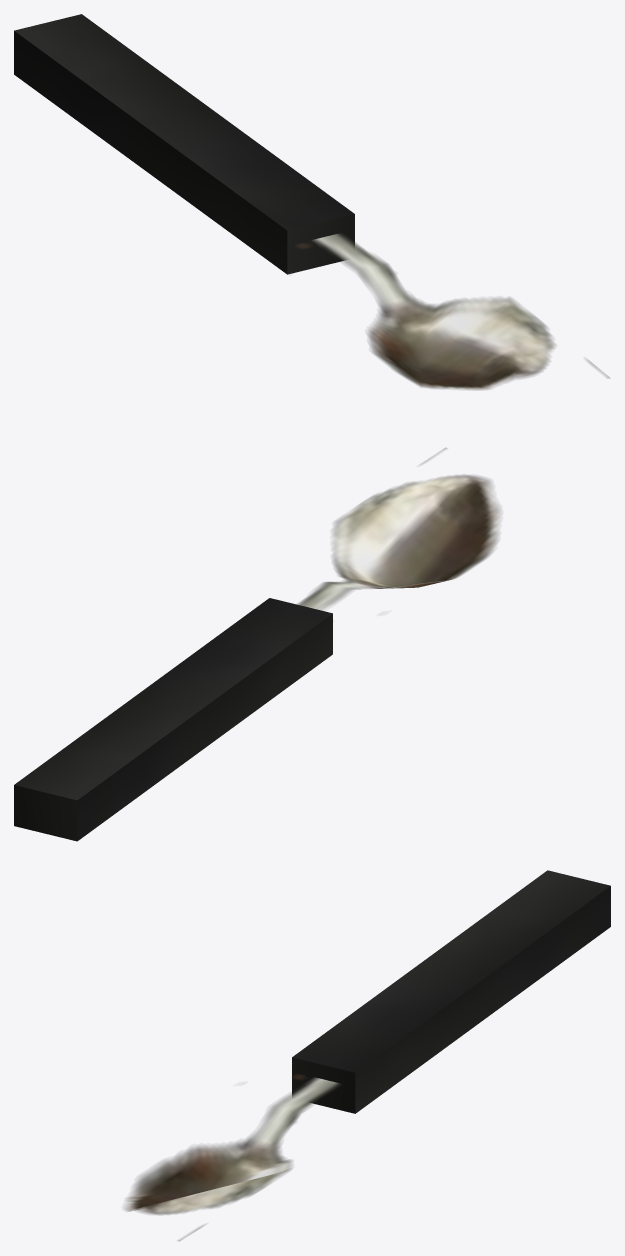
The model's file is Spoon_02.glb.
3 views of the same model, one above another, from view 1: azimuth 30°, elevation 25°; view 2: azimuth 150°, elevation 25°; view 3: azimuth 330°, elevation 25° (orthographic). The views are drawn at different scales.
Visible parts, largest first — view 1: Spoon_02; view 2: Spoon_02; view 3: Spoon_02.
Boxes of the visible parts, x1,y1,x2,y2 form: Spoon_02: (14,14,609,390); Spoon_02: (14,448,501,841); Spoon_02: (123,870,610,1241).
Bounding box in the file's own units: 0.0861 × 0.024 × 0.3619.
Materials: 1 (1 with a texture image).
